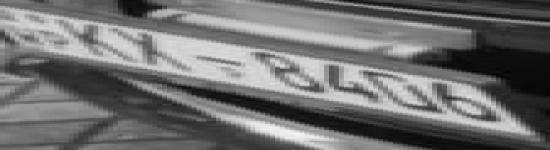-: (183, 49, 262, 74)
0: (352, 68, 452, 116)
4: (310, 61, 395, 107)
6: (424, 80, 517, 128)
8: (239, 49, 339, 98)
K: (50, 18, 147, 67)
P: (30, 25, 87, 57)
W: (3, 22, 50, 47)
X: (106, 25, 205, 76)
